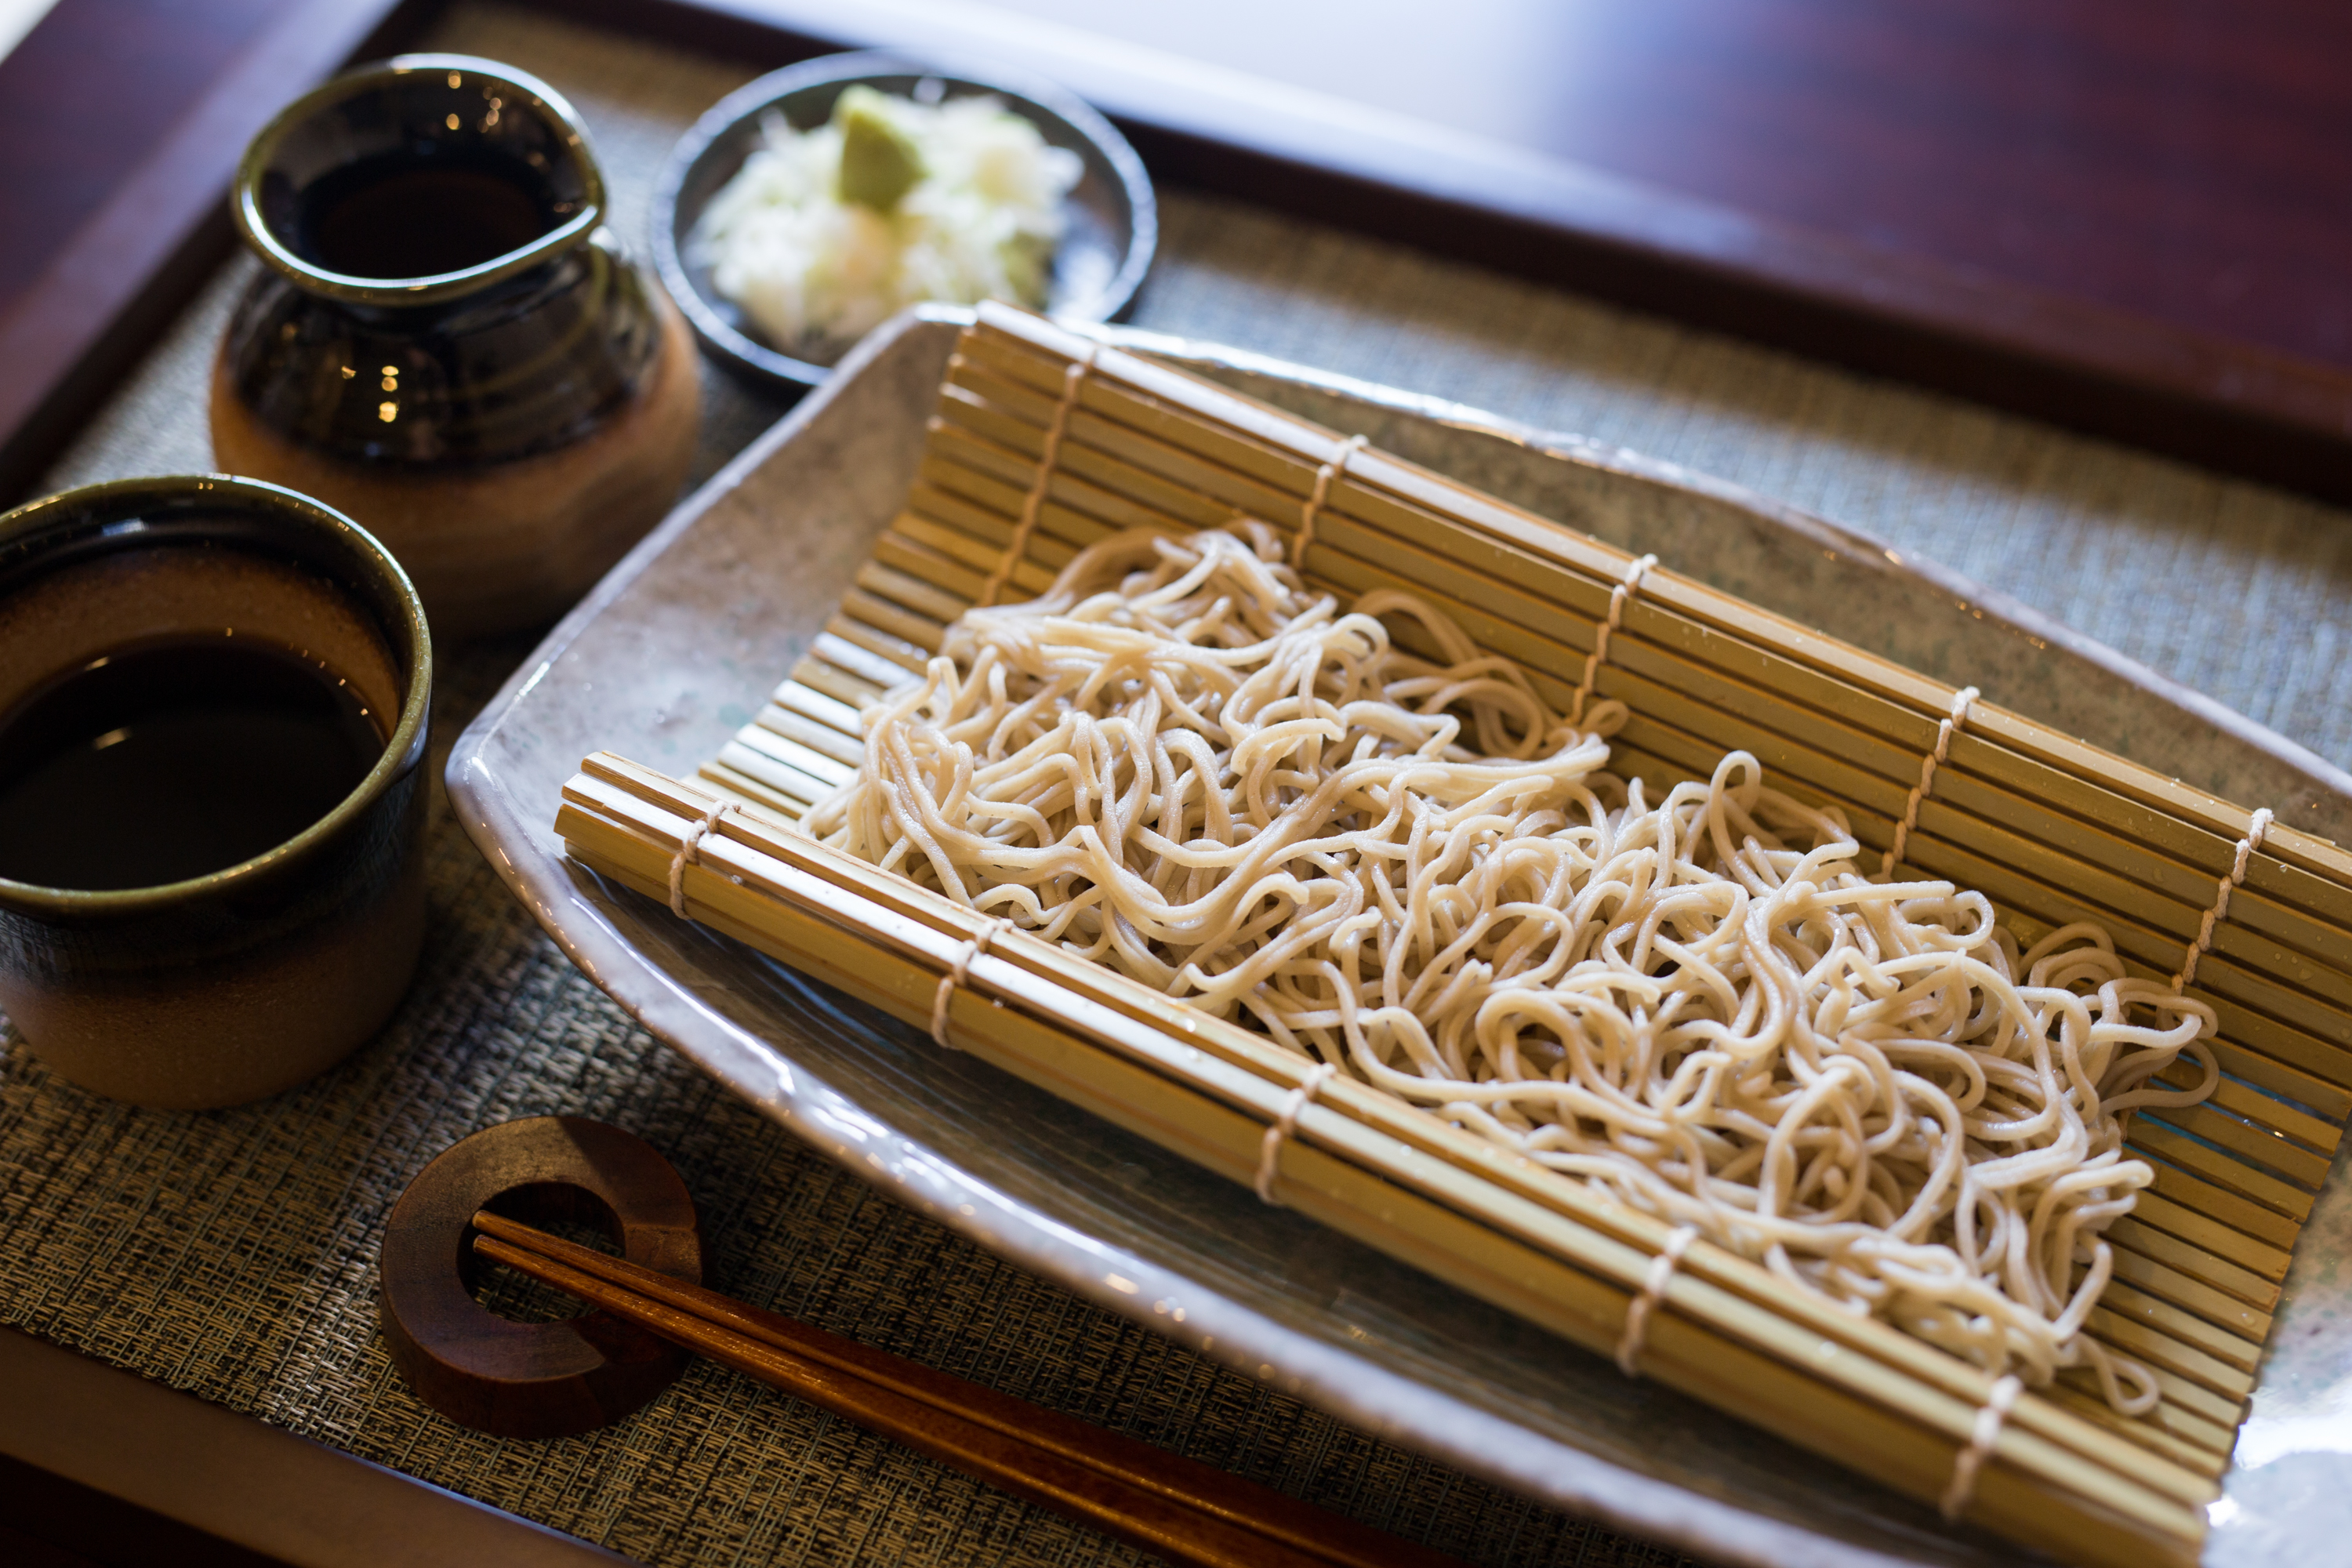Soba: (856, 516, 2205, 1363)
